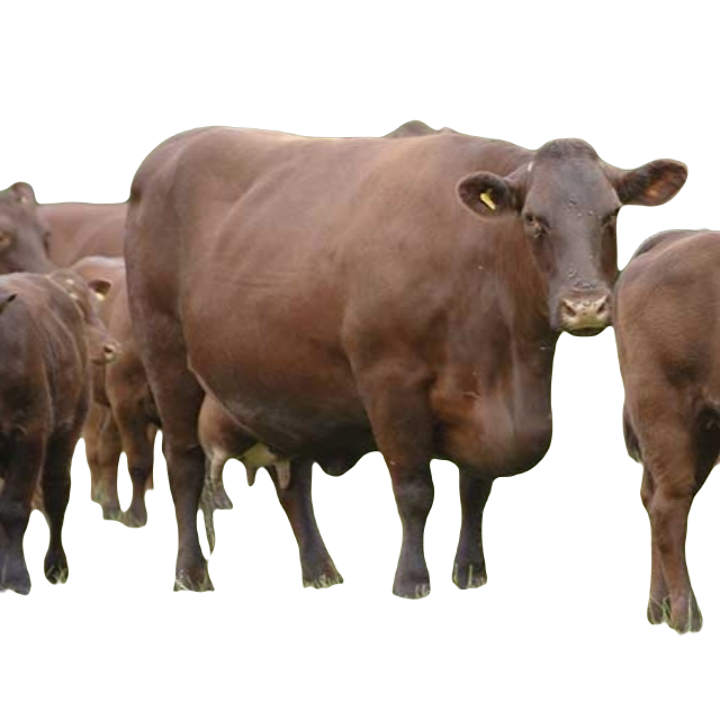Cow: (120, 118, 691, 599)
